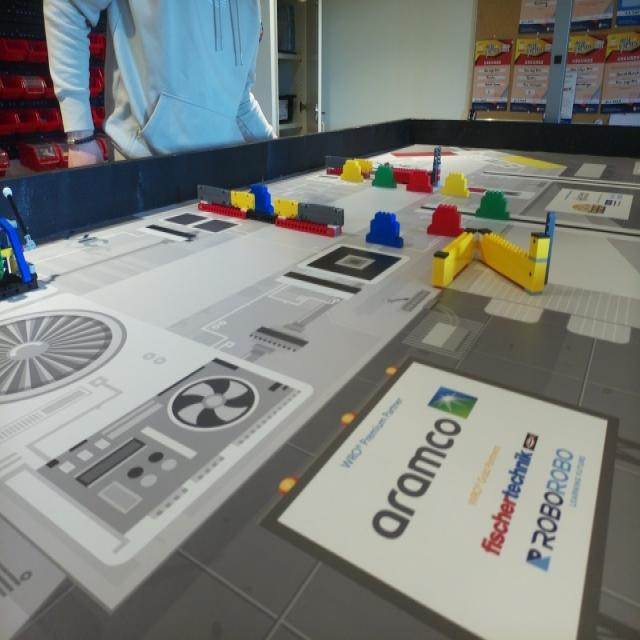blau: (366, 212, 402, 249), (253, 187, 272, 212)
gruen: (477, 191, 512, 221), (373, 166, 397, 188)
rot: (427, 205, 461, 232), (407, 170, 432, 192)
yellow: (443, 174, 468, 198), (342, 161, 361, 183)
